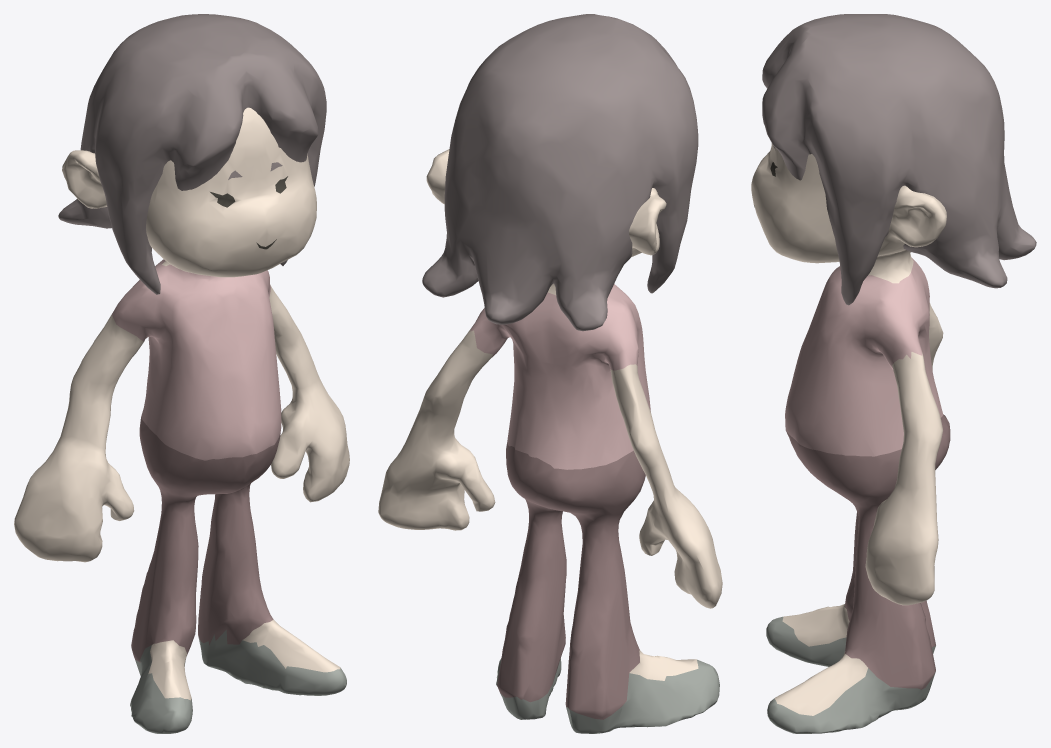
The model's file is pink.fbx.
3 views of the same model, side by side, from view 1: azimuth 30°, elevation 25°; view 2: azimuth 150°, elevation 25°; view 3: azimuth 270°, elevation 25° (orthographic). The views are drawn at different scales.
Parts seen in each view (by area): view 1: PM3D_Sphere3D2; view 2: PM3D_Sphere3D2; view 3: PM3D_Sphere3D2.
Part boxes in pixels (left/top/right/bottom): PM3D_Sphere3D2: left=14, top=14, right=349, bottom=733; PM3D_Sphere3D2: left=378, top=14, right=722, bottom=733; PM3D_Sphere3D2: left=751, top=14, right=1036, bottom=733.
Size of the model in its own units: 5.05 by 9.69 by 3.76.
